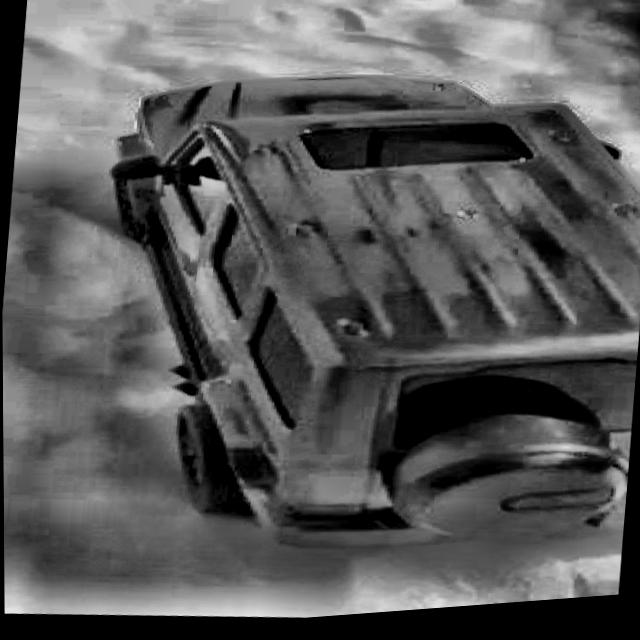light_vehicle: (65, 32, 640, 578)
